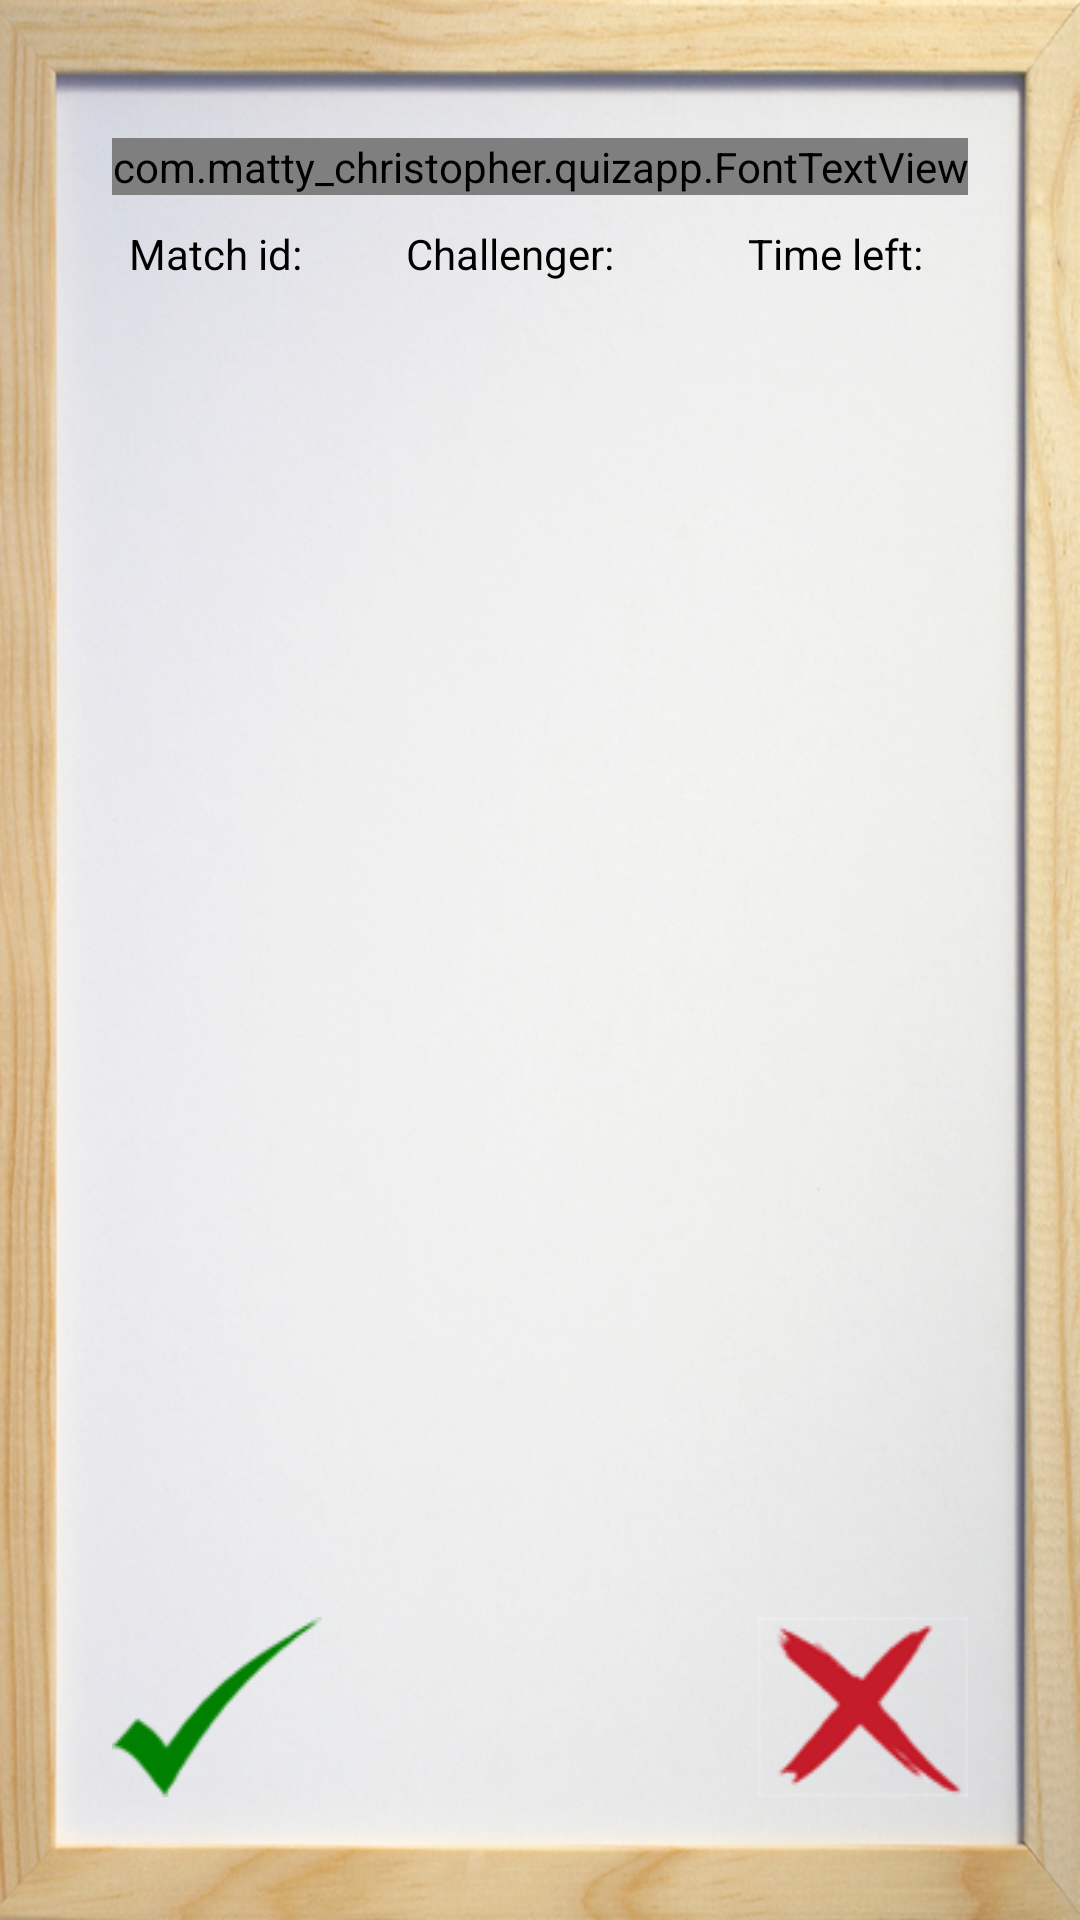

Screen size 1080px×1920px. Icon name, then its center in pixels as point (x, y):
accept: point (217, 1707)
reject: point (869, 1709)
